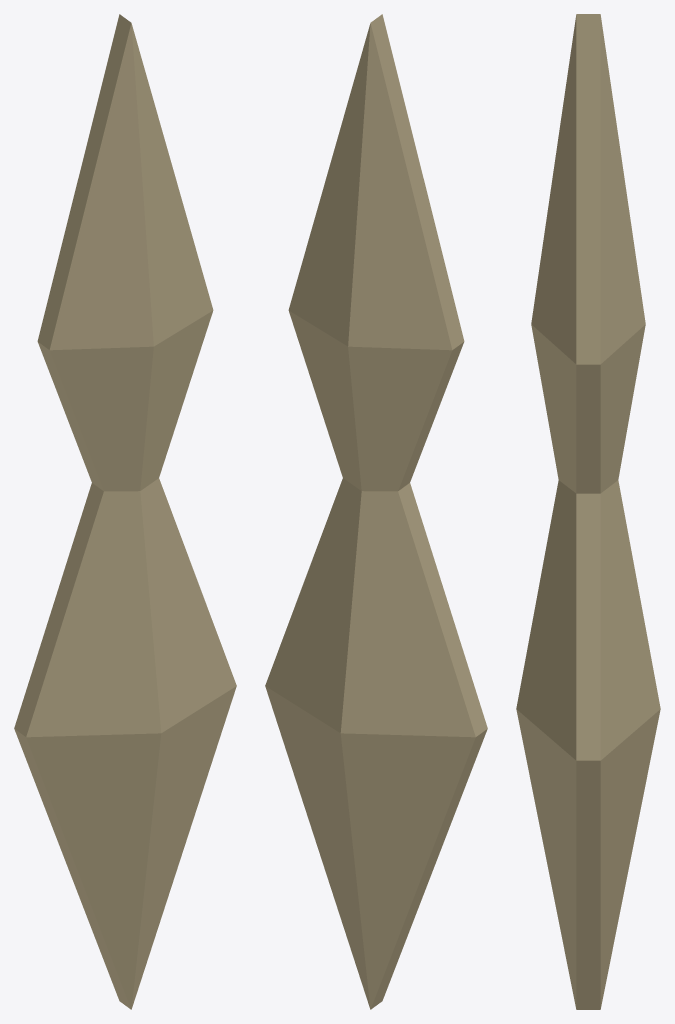
The model's file is outer-Crystal_a.glb.
3 views of the same model, side by side, from view 1: azimuth 30°, elevation 25°; view 2: azimuth 150°, elevation 25°; view 3: azimuth 270°, elevation 25° (orthographic).
Parts seen in each view (by area): view 1: Crystal; view 2: Crystal; view 3: Crystal.
Boxes of the visible parts, bbox=[...] form: Crystal: bbox=[14, 14, 236, 1009]; Crystal: bbox=[265, 14, 487, 1009]; Crystal: bbox=[516, 14, 660, 1009].
Bounding box in the file's own units: 0.5062 × 2.27 × 0.2979.
